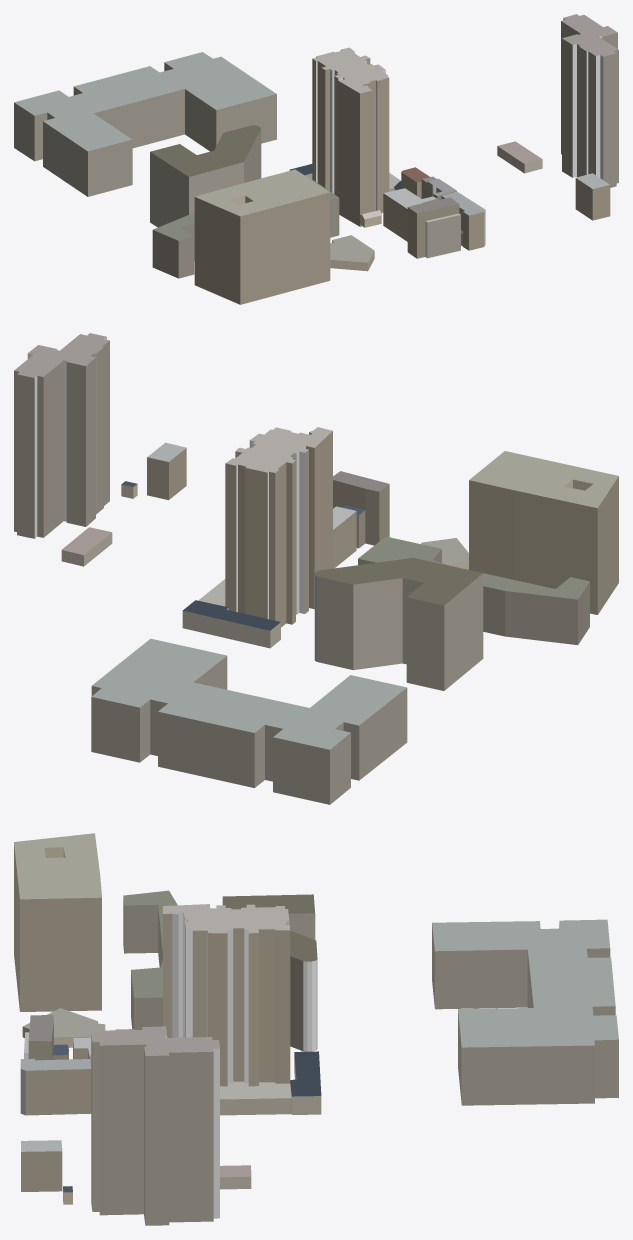
3 views of the same model, one above another, from view 1: azimuth 30°, elevation 25°; view 2: azimuth 150°, elevation 25°; view 3: azimuth 270°, elevation 25° (orthographic). The views are drawn at different scales.
Parts seen in each view (by area): view 1: tuile; view 2: tuile; view 3: tuile.
Boxes of the visible parts, x1,y1,x2,y2 form: tuile: (14,14,618,304); tuile: (14,333,618,804); tuile: (14,833,618,1225).
Bounding box in the file's own units: 283 × 85.77 × 255.
